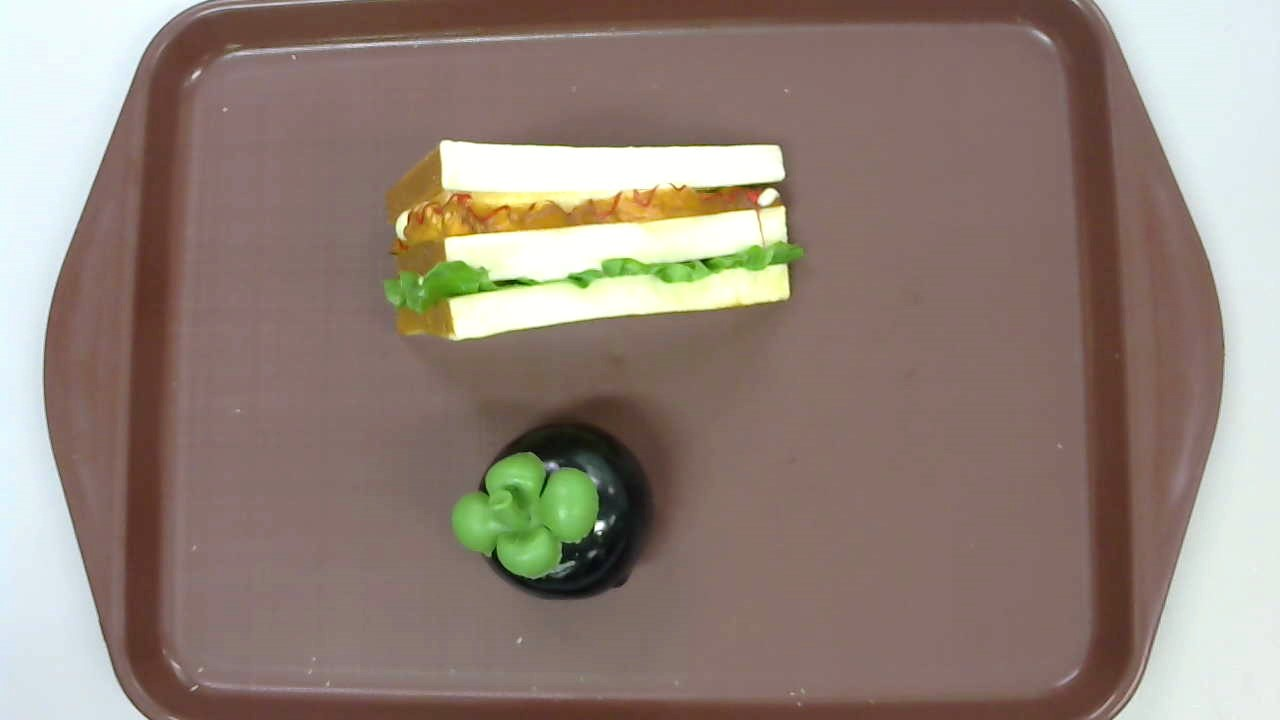mangosteen: (450, 423, 653, 600)
sandwich: (382, 140, 806, 349)
